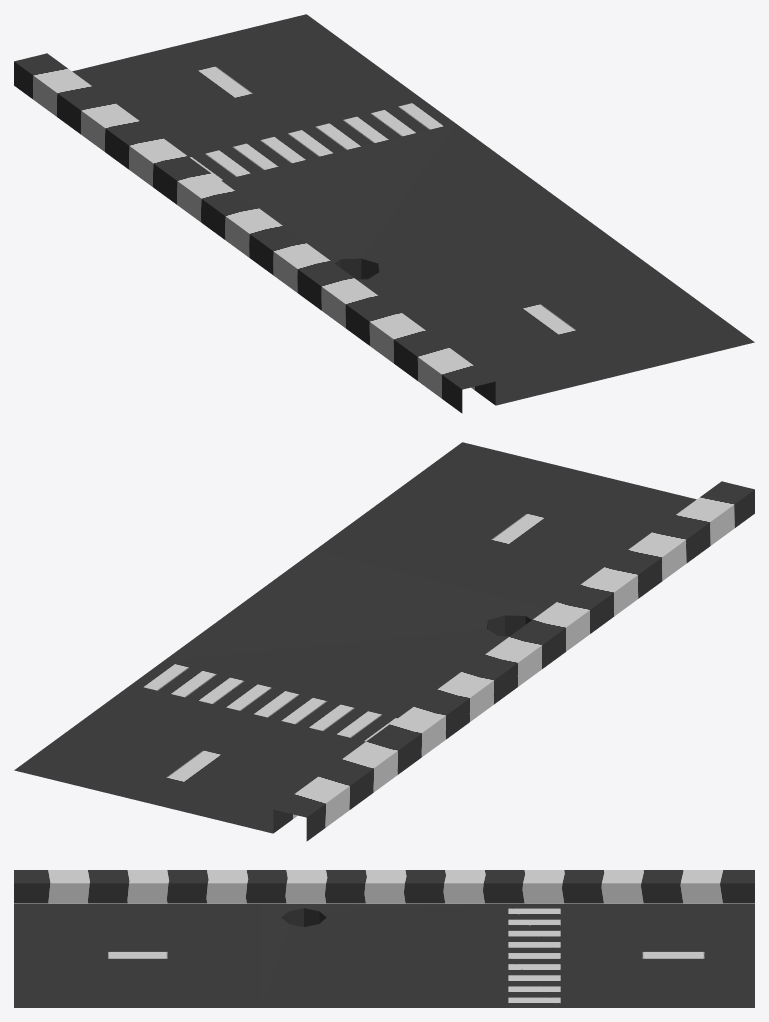
File: Road.fbx
3 views of the same model, one above another, from view 1: azimuth 30°, elevation 25°; view 2: azimuth 150°, elevation 25°; view 3: azimuth 270°, elevation 25° (orthographic). The views are drawn at different scales.
Parts seen in each view (by area): view 1: Road; view 2: Road; view 3: Road.
Boxes of the visible parts, x1,y1,x2,y2 form: Road: (14,14,754,413); Road: (14,442,754,841); Road: (14,870,754,1007).
Bounding box in the file's own units: 1356 × 286 × 3600.
